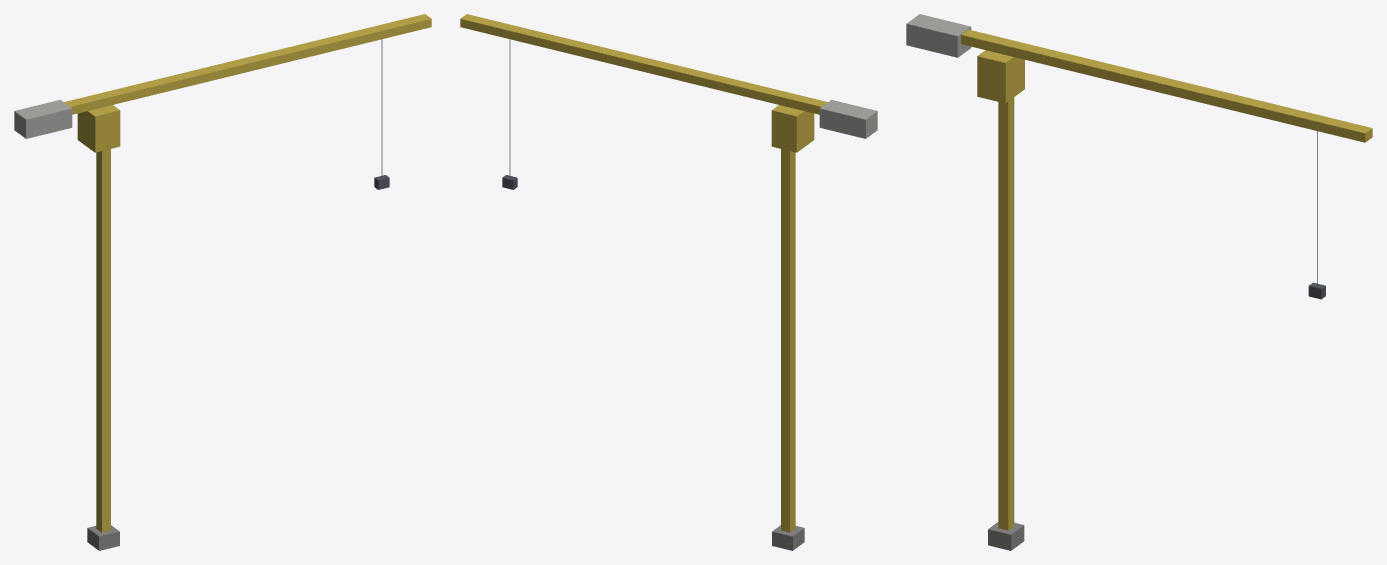
File: tower_crane.glb
3 views of the same model, side by side, from view 1: azimuth 30°, elevation 25°; view 2: azimuth 150°, elevation 25°; view 3: azimuth 330°, elevation 25° (orthographic). The views are drawn at different scales.
Visible parts, largest first — view 1: mast, jib_arm, cab, counterweight, base; view 2: mast, jib_arm, cab, counterweight, base; view 3: mast, jib_arm, cab, counterweight, base.
Boxes of the visible parts, x1,y1,x2,y2 form: mast: (96,149,110,532); jib_arm: (64,14,431,114); cab: (77,105,120,152); counterweight: (14,99,72,138); base: (87,525,119,550); mast: (781,149,795,532); jib_arm: (460,14,827,114); cab: (771,105,814,152); counterweight: (819,99,877,138); base: (772,525,804,550); mast: (998,97,1014,530); jib_arm: (961,29,1372,142); cab: (977,50,1024,103); counterweight: (906,14,971,57); base: (988,522,1024,550).
Size of what is drawn, in the model's own units: 17.6 by 18.5 by 1.3.
